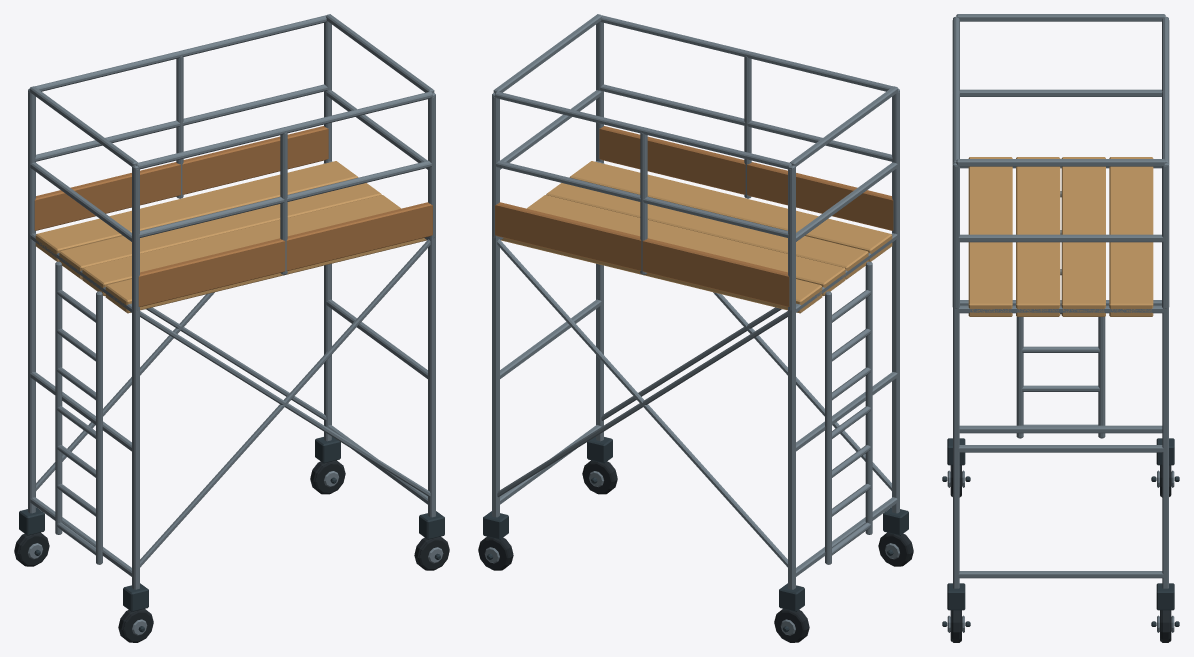
The model's file is b07_rolling_scaffold_tower.glb.
3 views of the same model, side by side, from view 1: azimuth 30°, elevation 25°; view 2: azimuth 150°, elevation 25°; view 3: azimuth 270°, elevation 25° (orthographic).
Parts seen in each view (by area): view 1: b07_rolling_scaffold_tower; view 2: b07_rolling_scaffold_tower; view 3: b07_rolling_scaffold_tower.
Part boxes in pixels (x1,y1,x2,y2): b07_rolling_scaffold_tower: (14, 14, 449, 642); b07_rolling_scaffold_tower: (478, 14, 913, 642); b07_rolling_scaffold_tower: (942, 14, 1179, 642).
Bounding box in the file's own units: 2.33 × 3.25 × 1.45.
